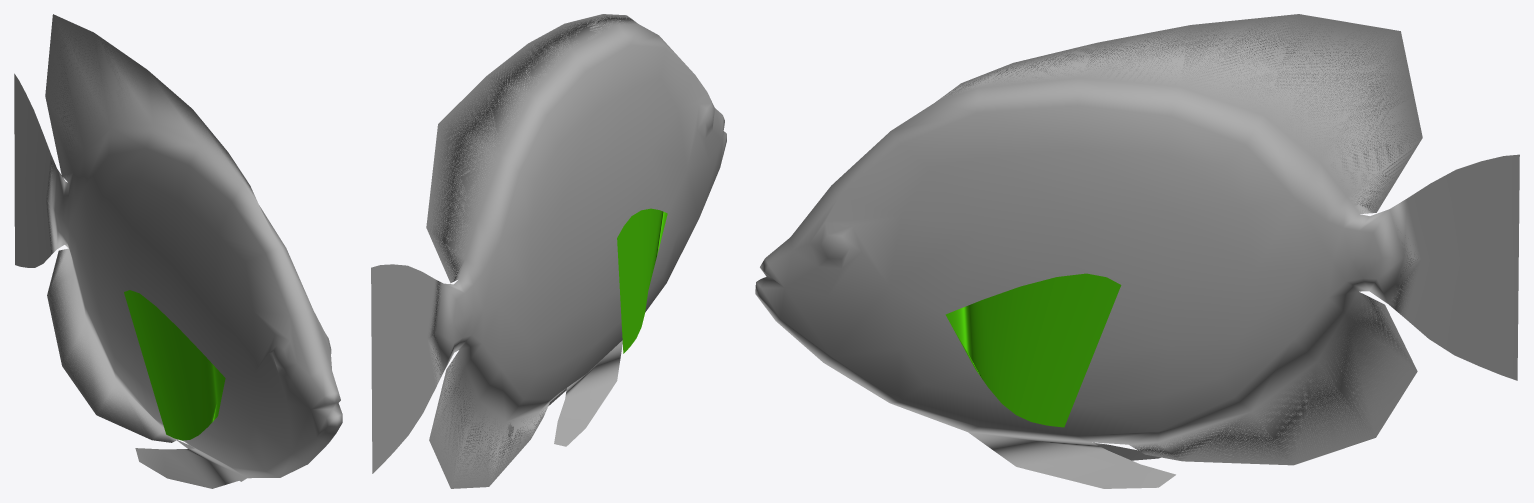
Rendered from Pomacanthidae_D_S.fbx.
3 renders of one model, left to right at view 1: azimuth 30°, elevation 25°; view 2: azimuth 150°, elevation 25°; view 3: azimuth 270°, elevation 25°, orthographic. The views are drawn at different scales.
Parts seen in each view (by area): view 1: Pomacanthidae_D_S_Mesh; view 2: Pomacanthidae_D_S_Mesh; view 3: Pomacanthidae_D_S_Mesh.
Part boxes in pixels (x1=…): Pomacanthidae_D_S_Mesh: x1=14, y1=14, x2=342, y2=488; Pomacanthidae_D_S_Mesh: x1=371, y1=14, x2=726, y2=488; Pomacanthidae_D_S_Mesh: x1=755, y1=14, x2=1519, y2=488.
Bounding box in the file's own units: 0.00213 × 0.00663 × 0.0101.
